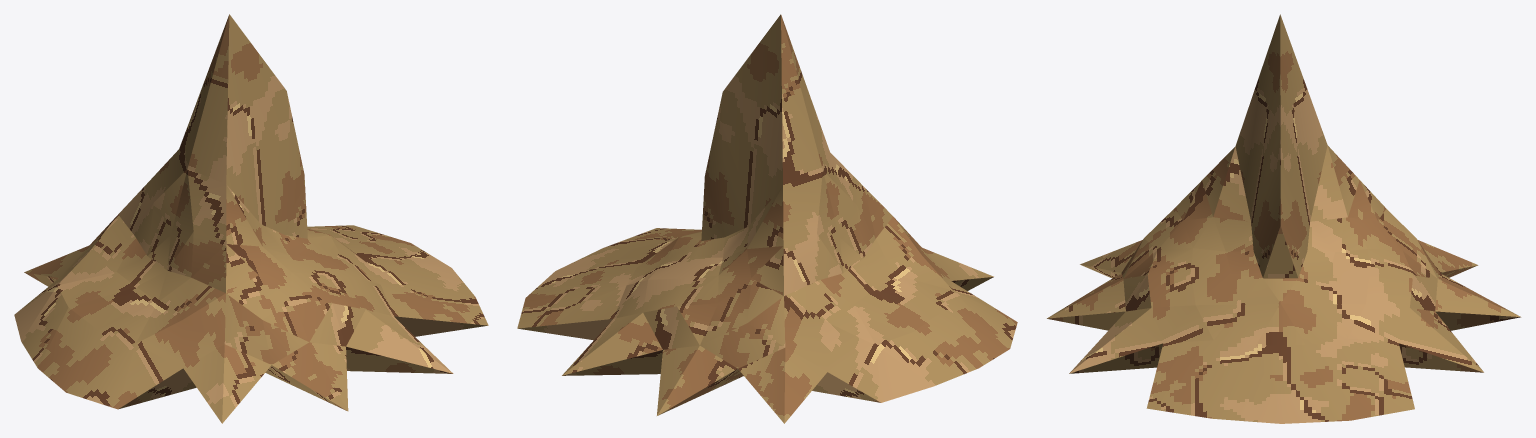
File: stalagmite-300-11.glb
The picture shows the model from 3 angles, left to right: view 1: azimuth 30°, elevation 25°; view 2: azimuth 150°, elevation 25°; view 3: azimuth 270°, elevation 25°; orthographic projection. The views are drawn at different scales.
Bounding box in the file's own units: 1.18 × 0.8963 × 1.18.
1 material, 1 textured.
